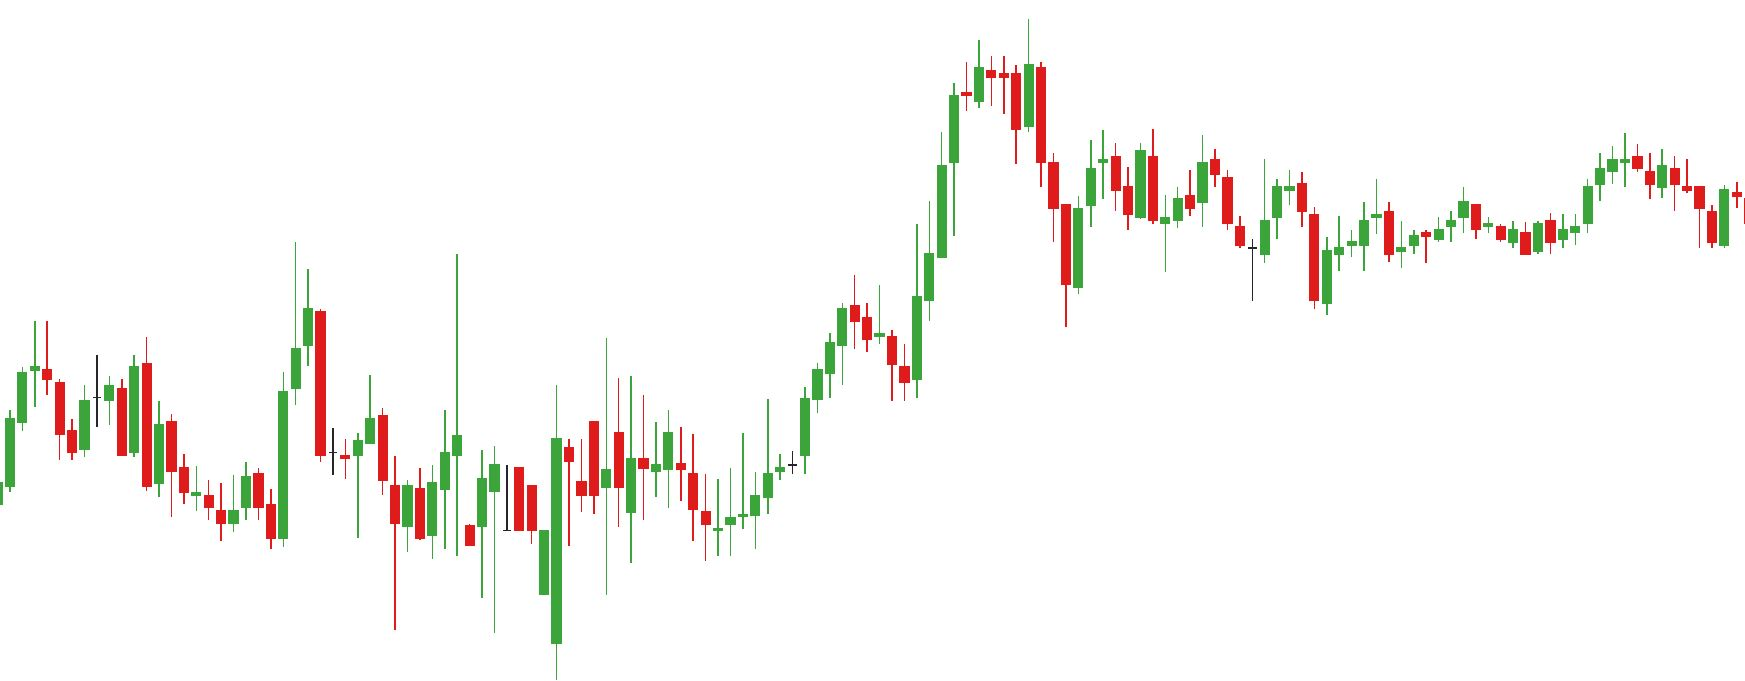sell: (30, 244, 302, 440)
